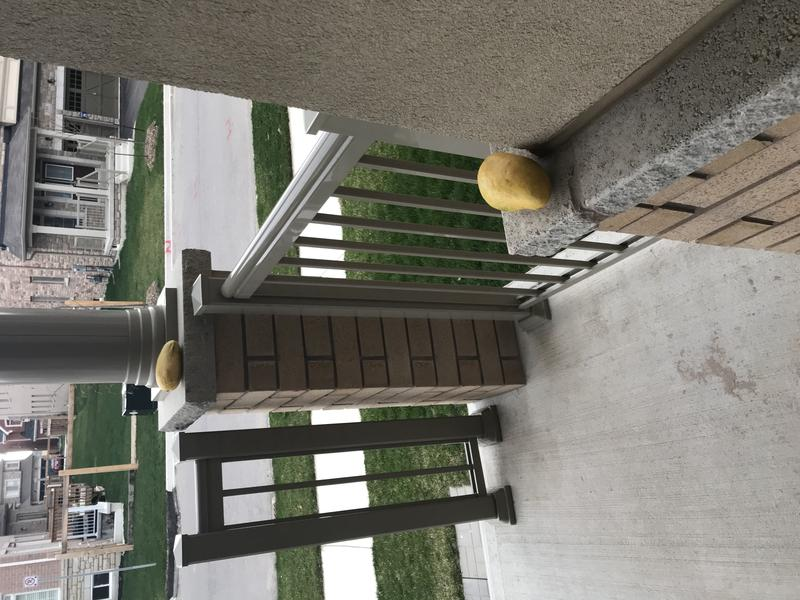mango: (472, 146, 558, 224), (150, 336, 185, 395)
